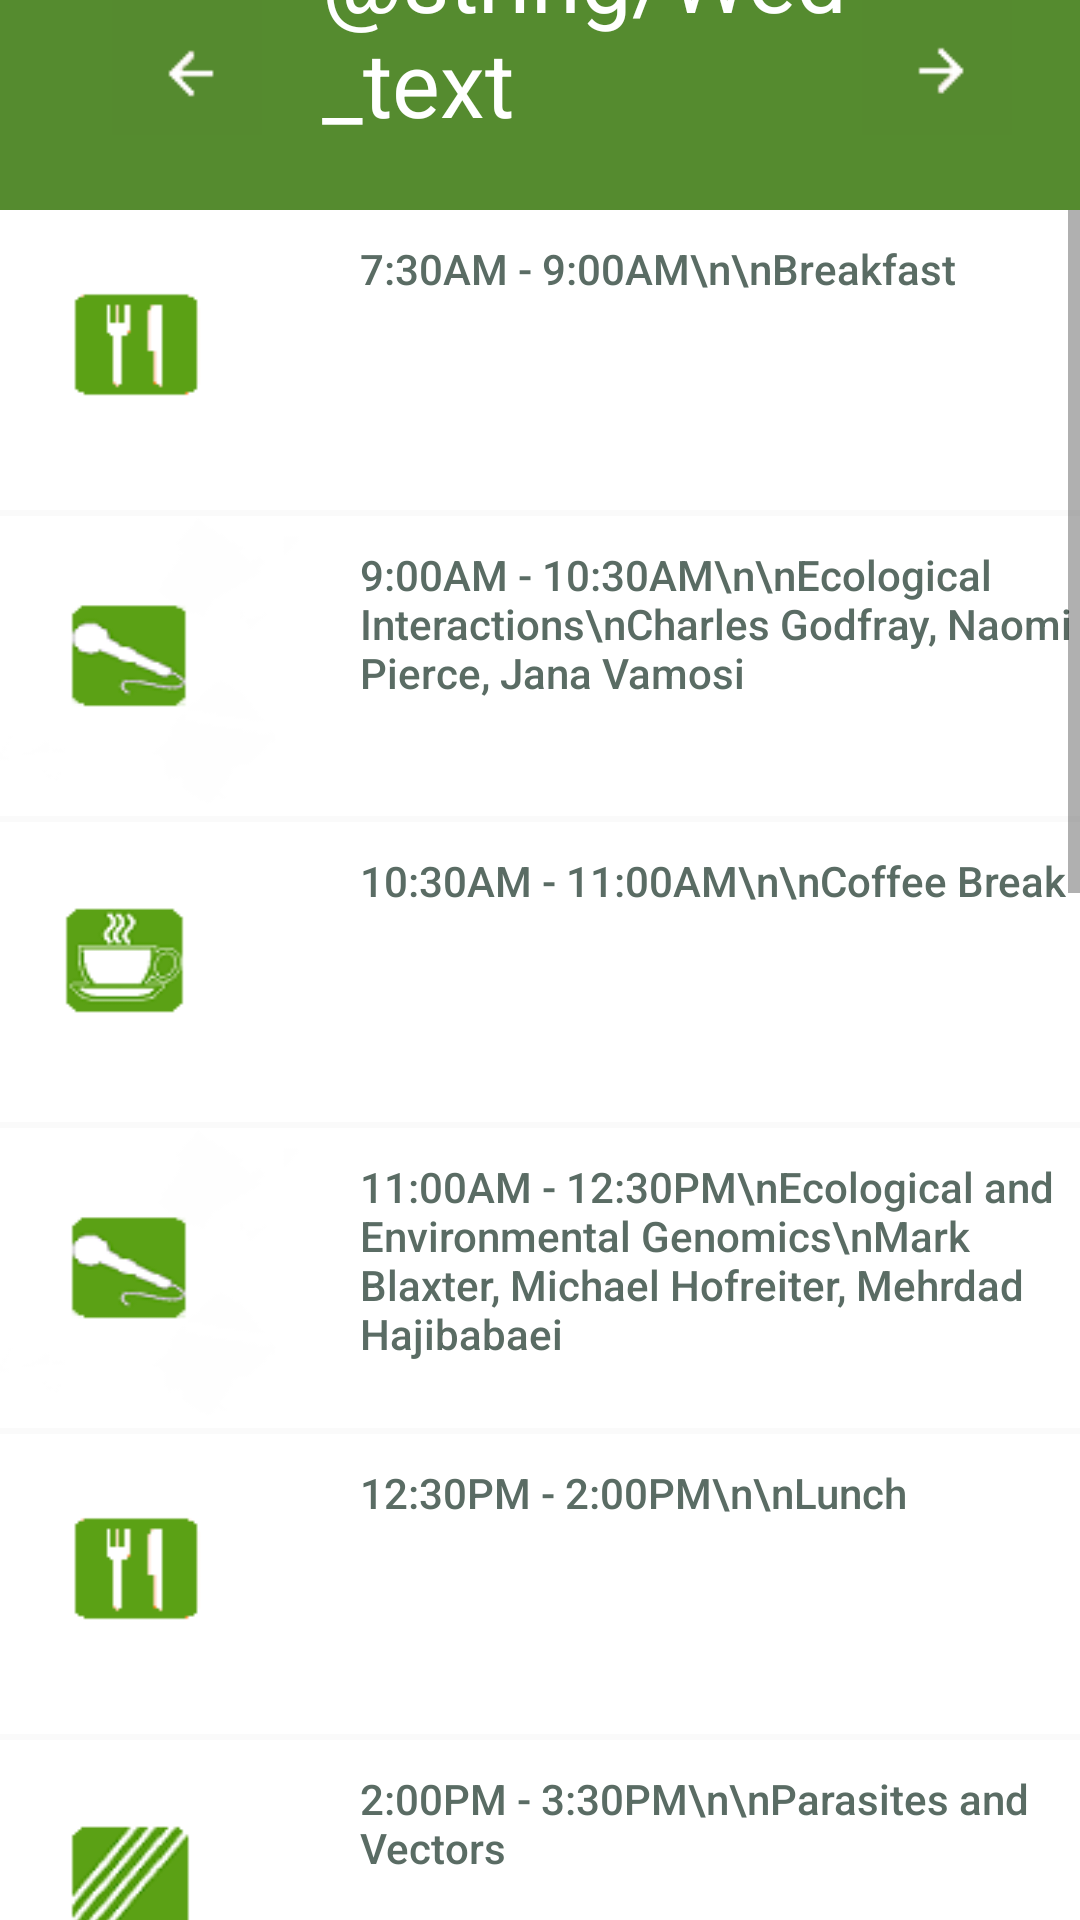

Where to tap for icons on this 1080 × 1920 app screen, as [x,y]:
left: [191,73]
right: [941,71]
